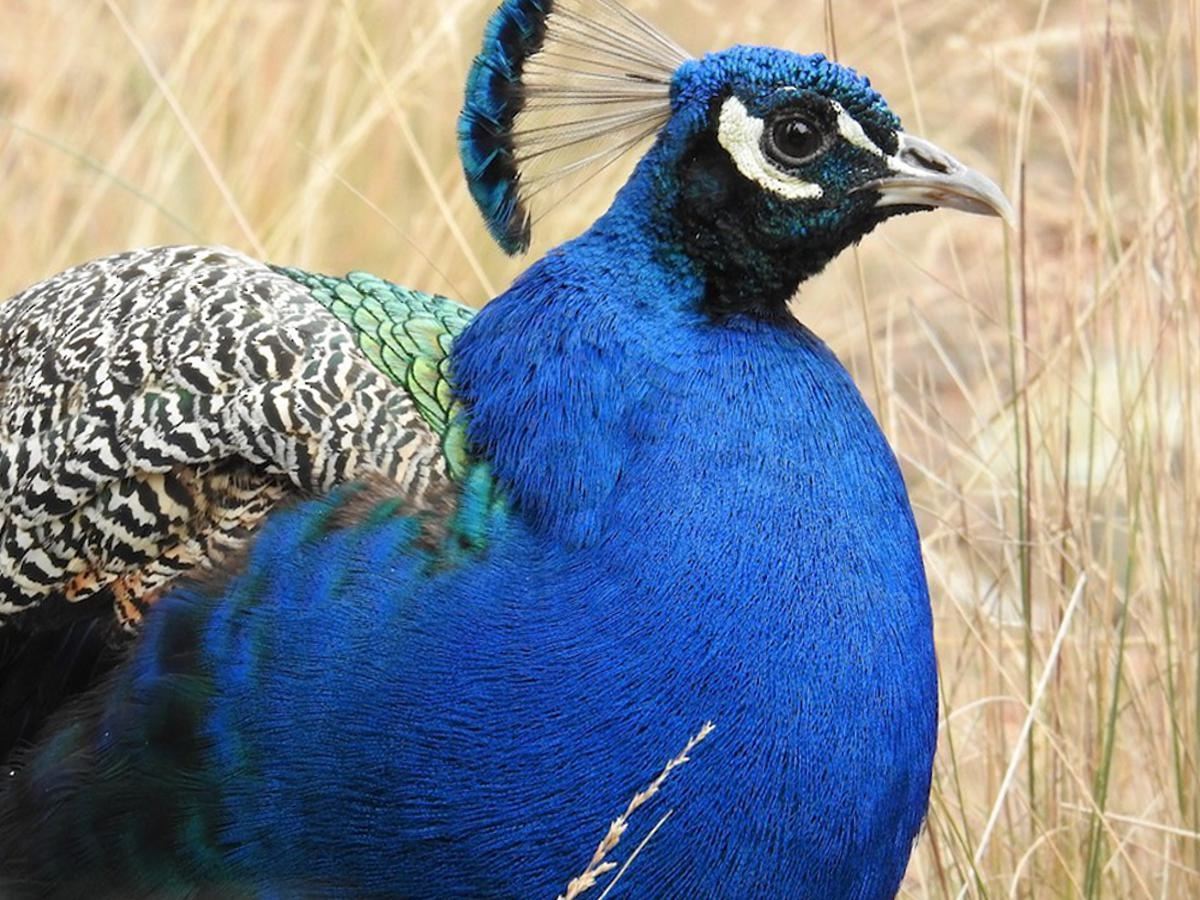peacock: (85, 35, 1009, 900)
